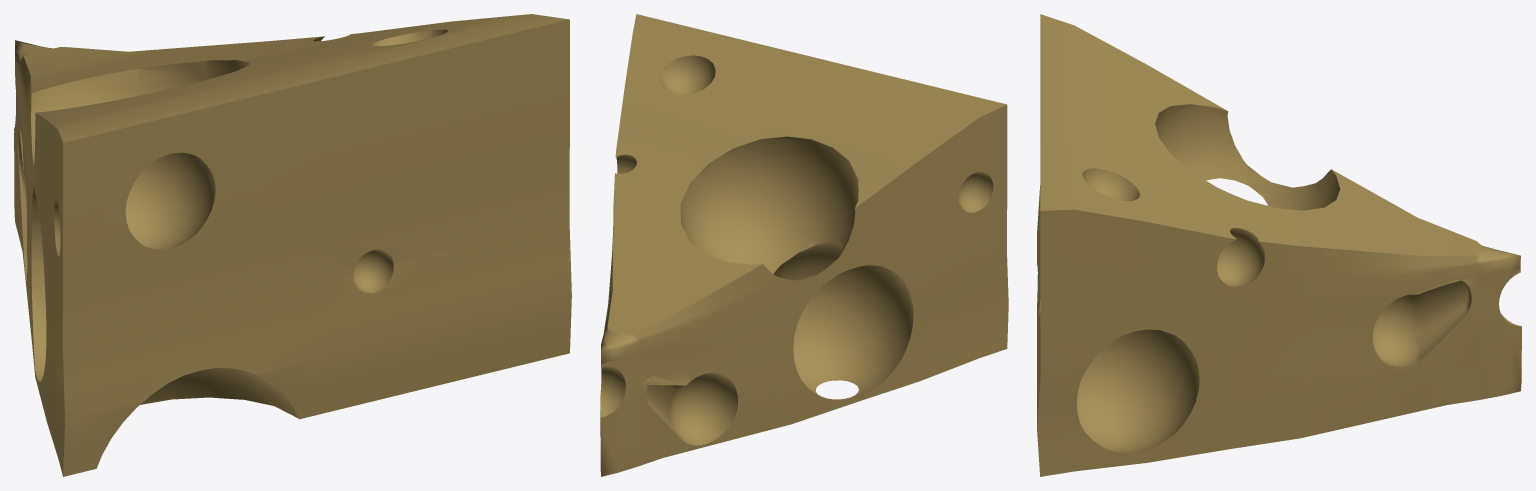
Rendered from Cheese.fbx.
The picture shows the model from 3 angles, left to right: view 1: azimuth 30°, elevation 25°; view 2: azimuth 150°, elevation 25°; view 3: azimuth 270°, elevation 25°; orthographic projection. The views are drawn at different scales.
Parts seen in each view (by area): view 1: Cheese; view 2: Cheese; view 3: Cheese.
Boxes of the visible parts, box(x1,y1,x2,y2) form: Cheese: box(14, 14, 571, 476); Cheese: box(600, 14, 1008, 476); Cheese: box(1037, 14, 1521, 476).
Bounding box in the file's own units: 7.3 × 4.82 × 7.59.
